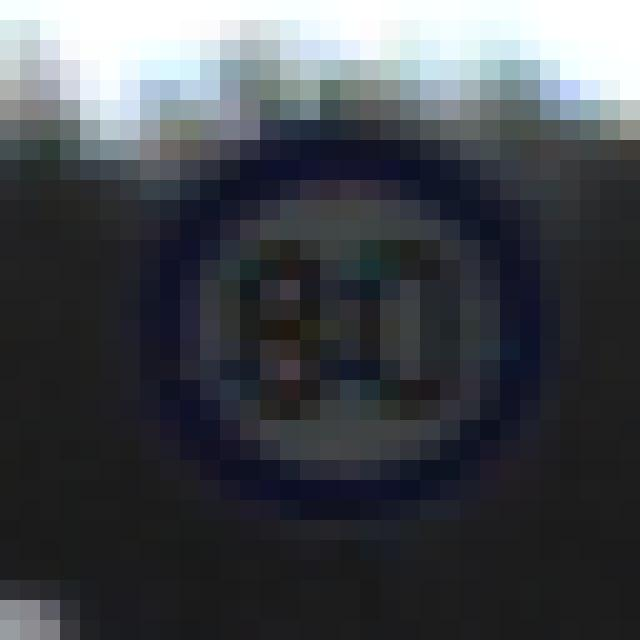SPEED-LIMIT-80: (140, 131, 532, 516)
